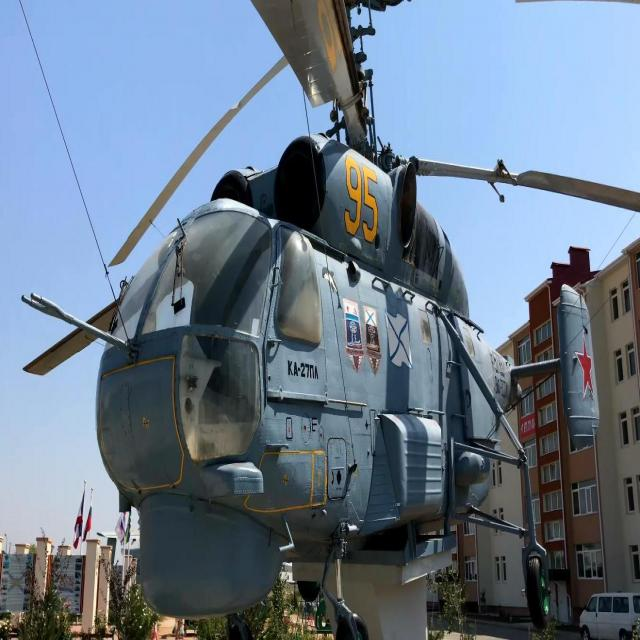MIL_HELO: (19, 0, 639, 622)
